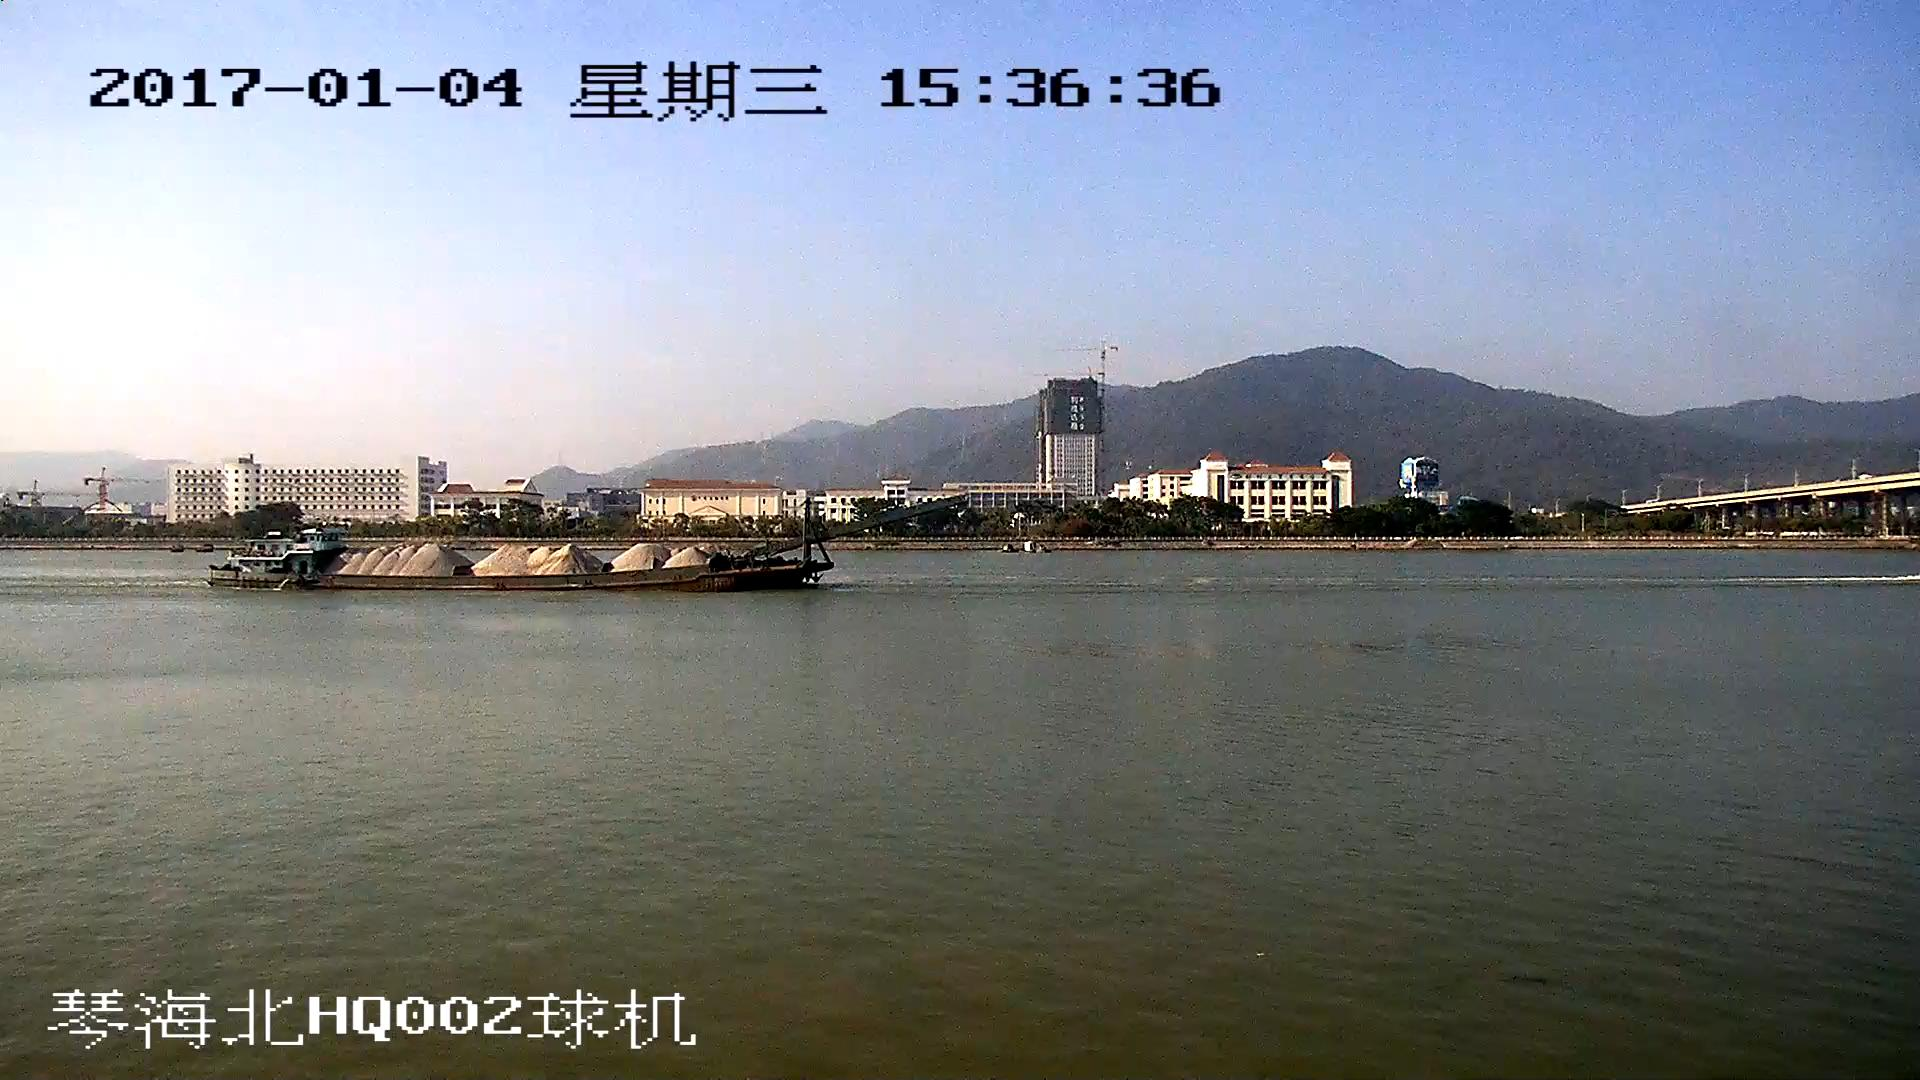ore carrier: (210, 496, 958, 591)
